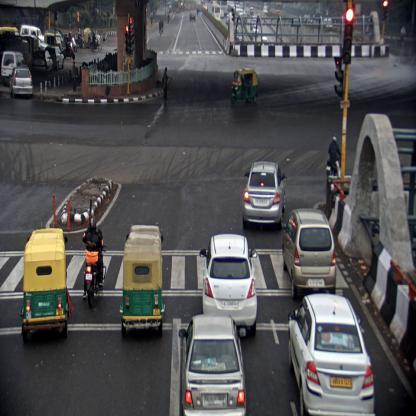car: (287, 294, 374, 415), (178, 314, 247, 415), (200, 234, 258, 337), (283, 209, 336, 299), (242, 160, 287, 230), (8, 66, 34, 100), (2, 52, 25, 87), (34, 49, 56, 77), (45, 46, 64, 70)
motorcycle: (81, 217, 105, 308), (325, 132, 342, 182)
